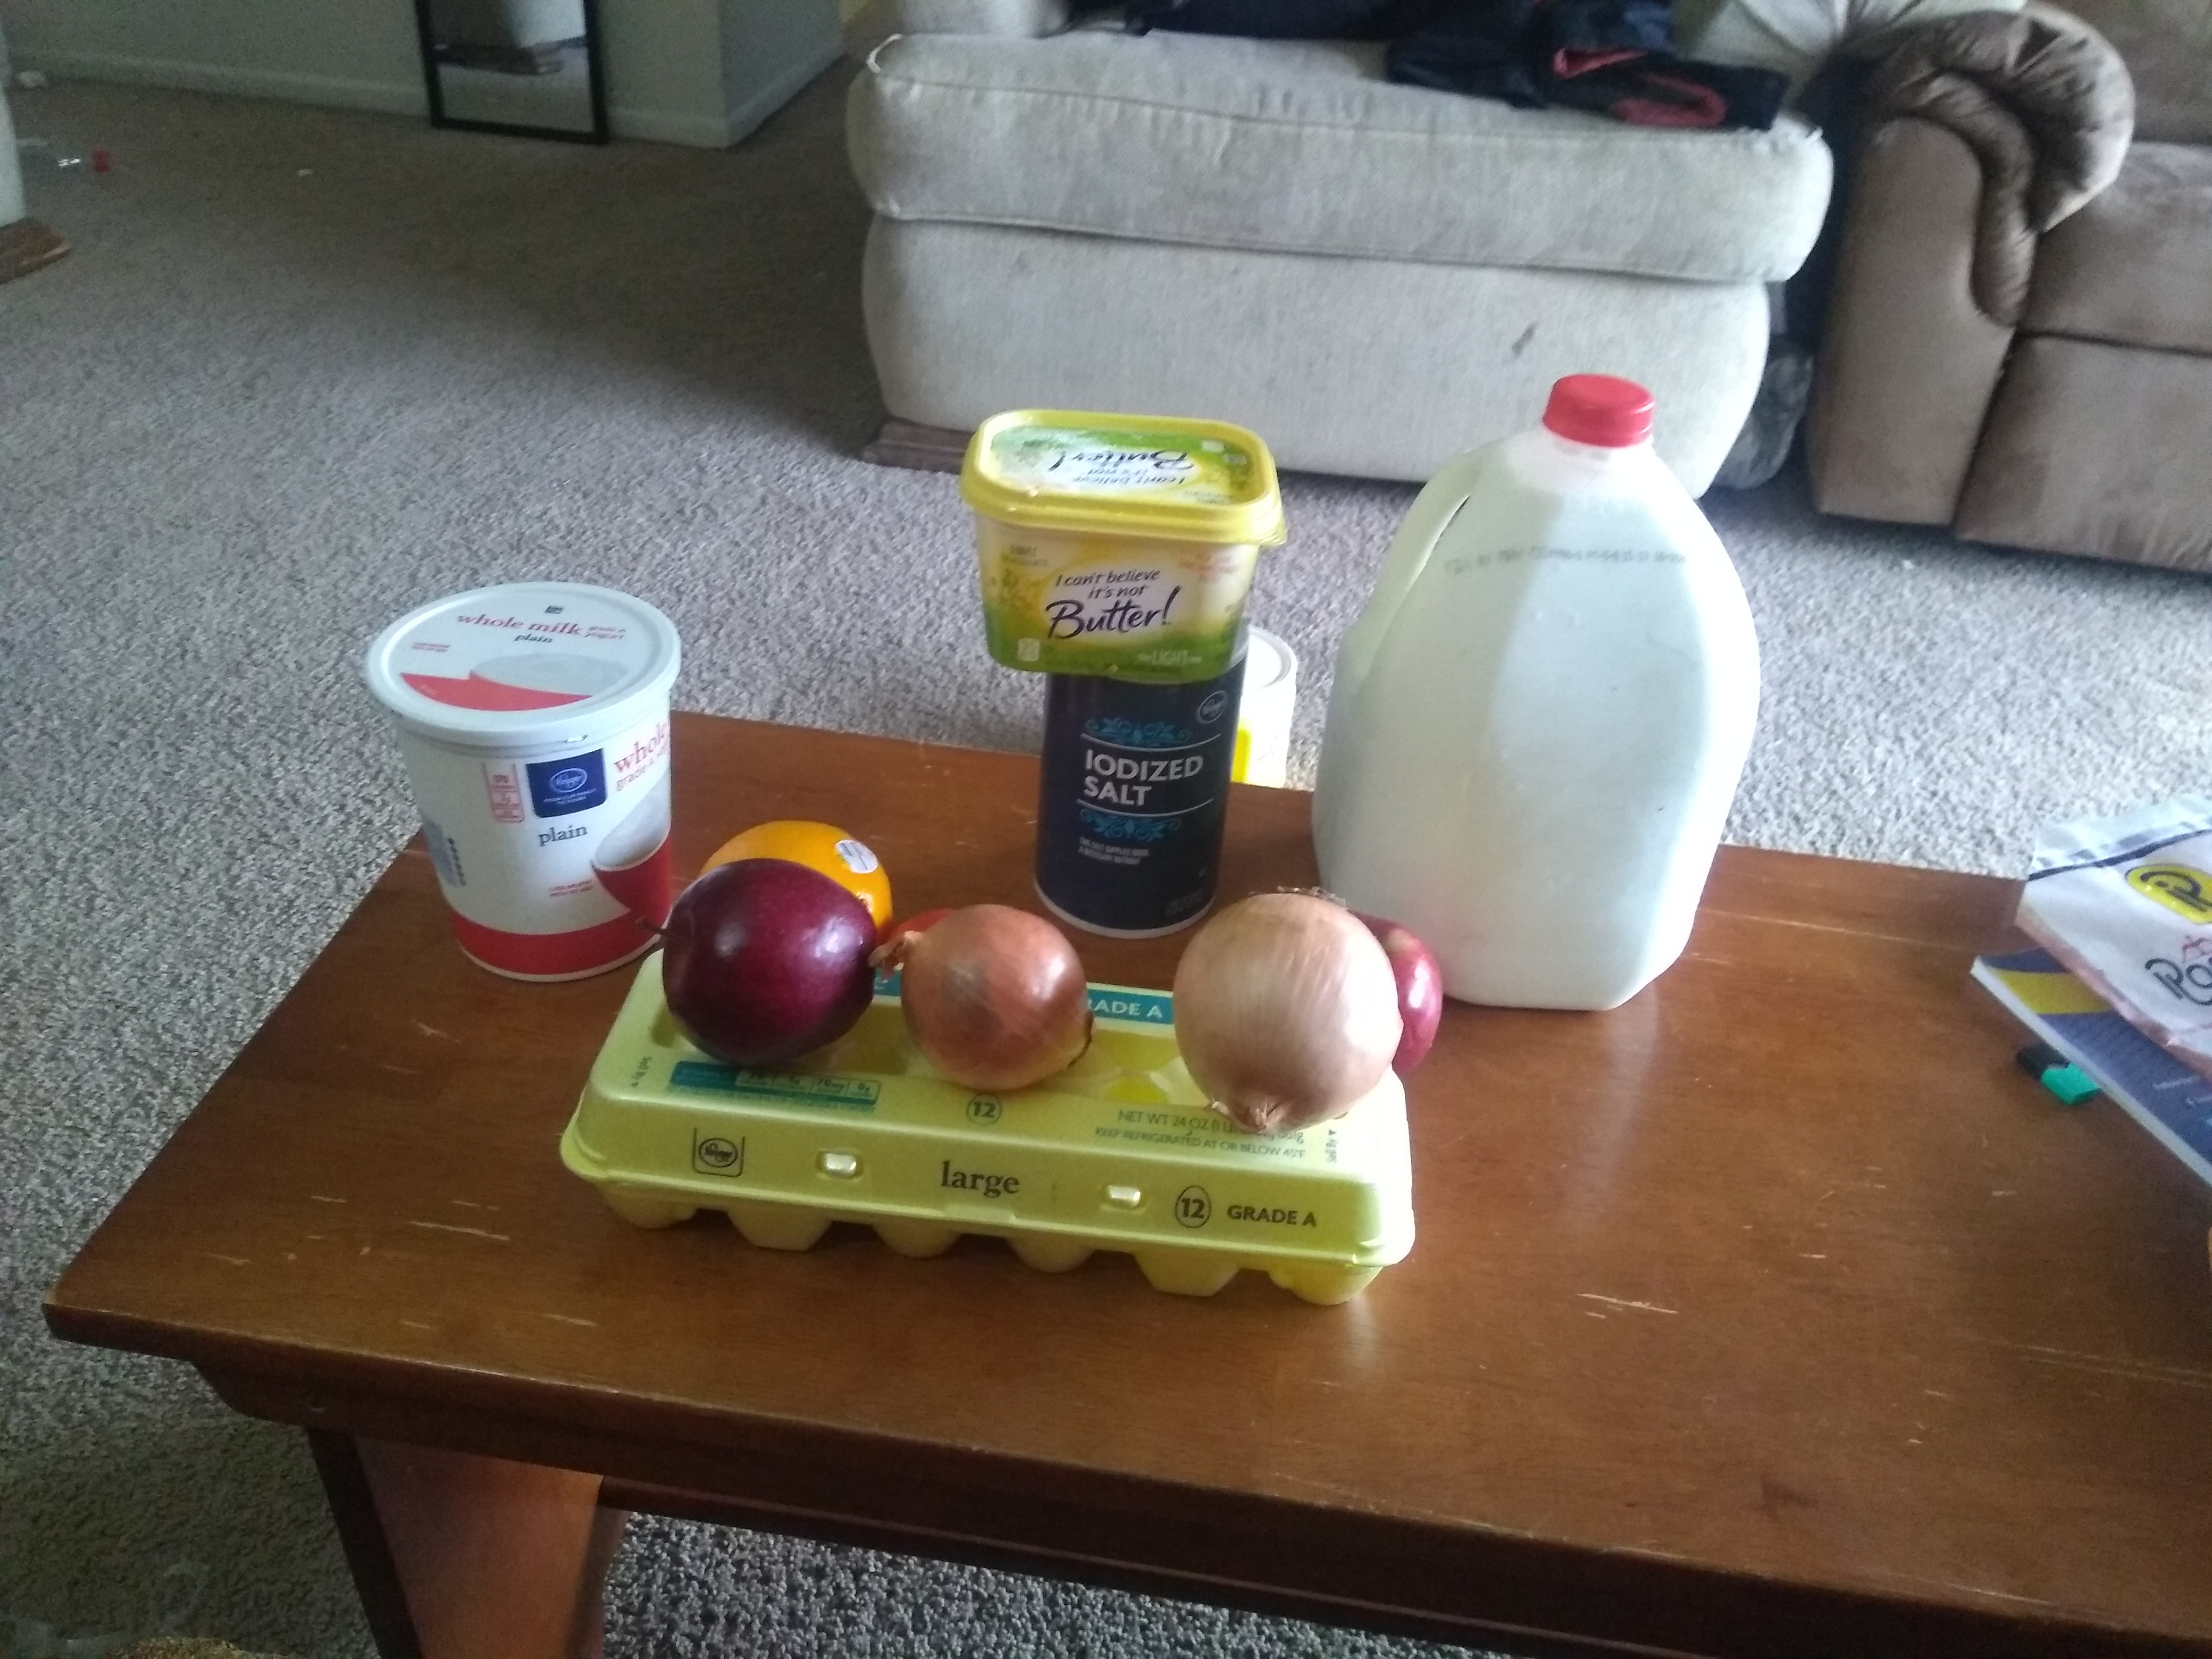apple: (655, 864, 883, 1072), (1372, 908, 1451, 1079)
butter: (958, 413, 1278, 680)
eggs: (590, 951, 1416, 1309)
milk: (1310, 369, 1757, 1002)
onion: (1174, 894, 1411, 1141), (902, 908, 1096, 1091)
orange: (705, 810, 899, 924)
salt: (1021, 655, 1247, 929)
sugar: (1251, 617, 1301, 805)
yoghurt: (341, 573, 679, 976)
